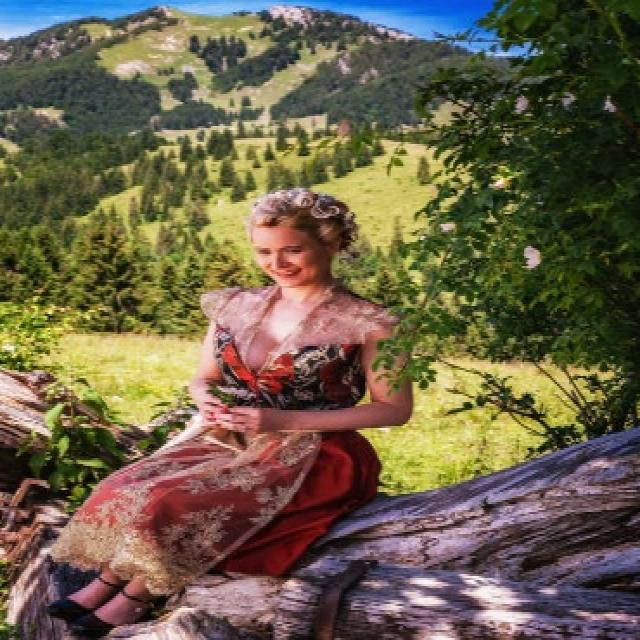adult: (46, 197, 418, 639)
